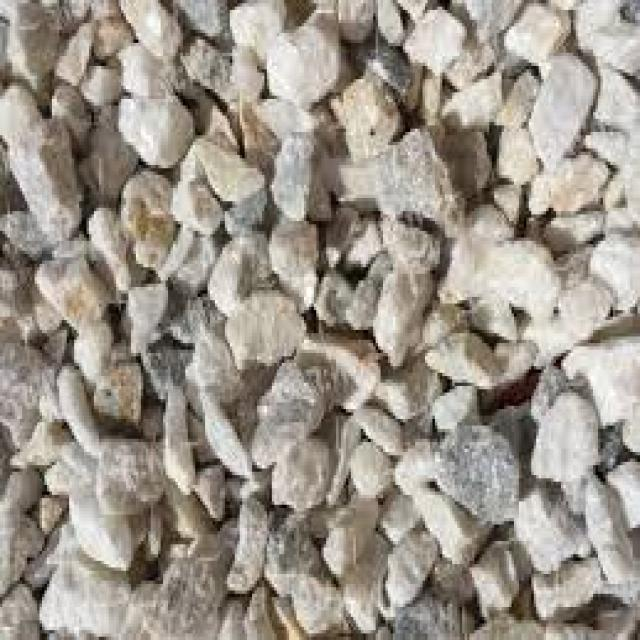Metamorphic: (2, 6, 632, 634)
